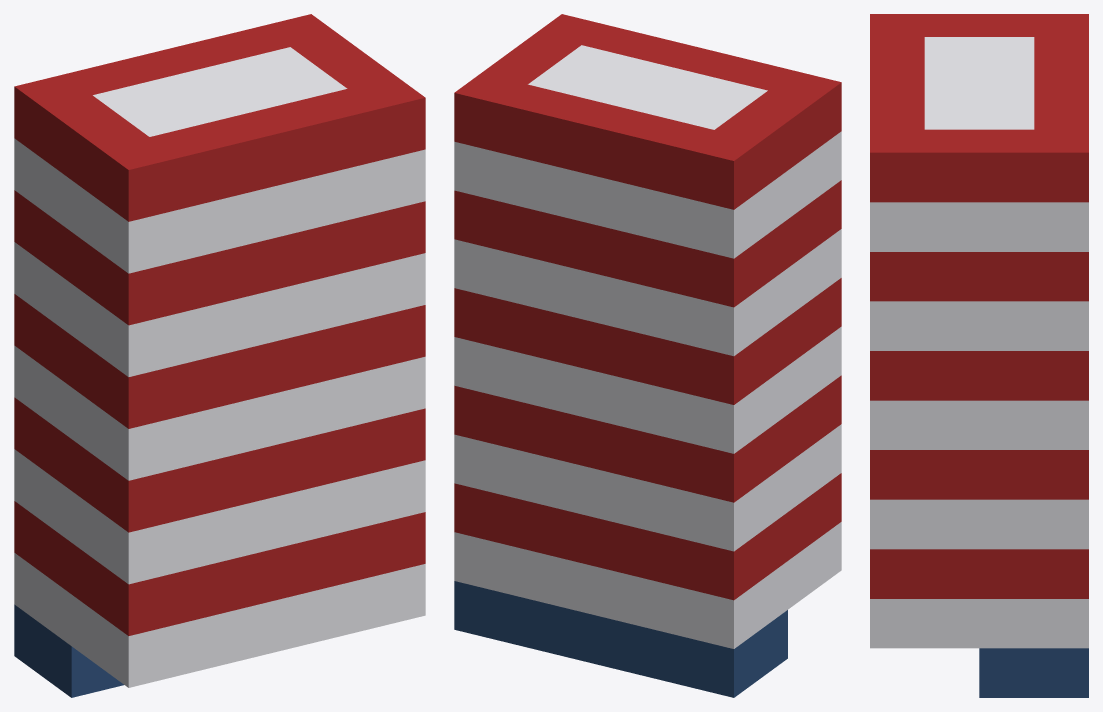
Rendered from torso.obj.
The picture shows the model from 3 angles, left to right: view 1: azimuth 30°, elevation 25°; view 2: azimuth 150°, elevation 25°; view 3: azimuth 270°, elevation 25°; orthographic projection. The views are drawn at different scales.
Size of the model in its own units: 0.6 by 1.1 by 0.4.
1 material, 1 textured.
